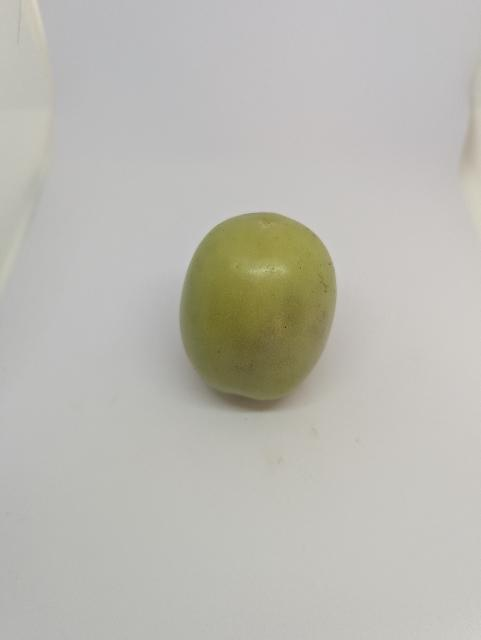green: (173, 210, 347, 410)
